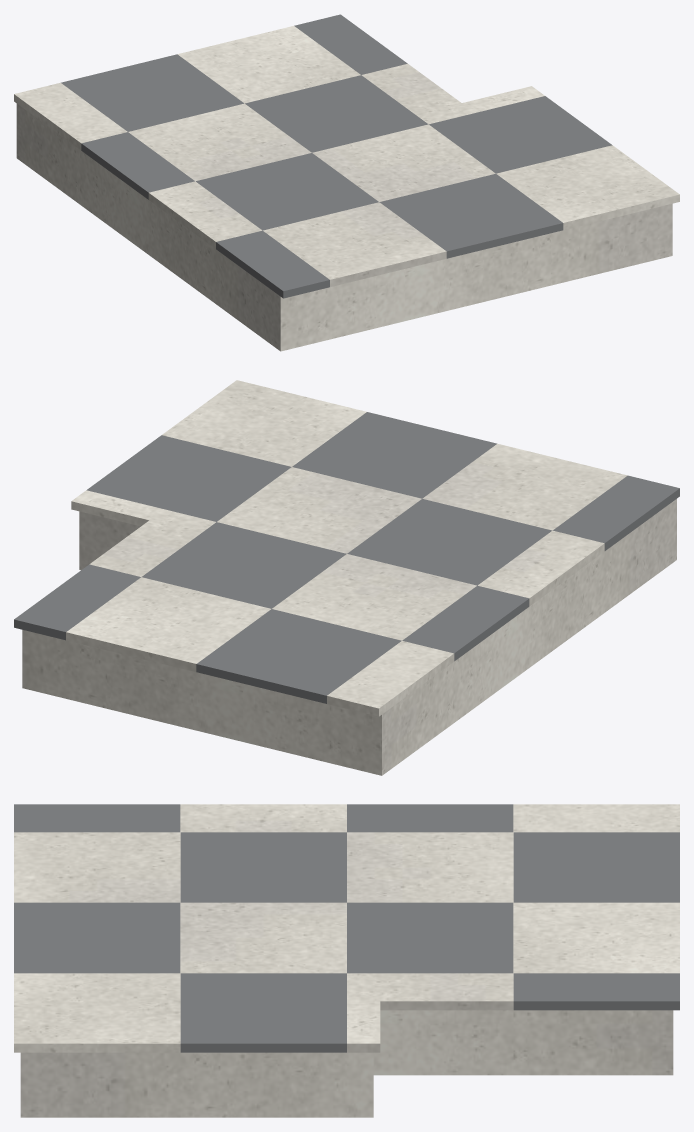
File: floor_marble_u_e1000_h6.glb
The picture shows the model from 3 angles, top to bottom: view 1: azimuth 30°, elevation 25°; view 2: azimuth 150°, elevation 25°; view 3: azimuth 270°, elevation 25°; orthographic projection. The views are drawn at different scales.
Parts seen in each view (by area): view 1: floor_marble_u_e1000_h6_marble, floor_marble_u_e1000_h6_slate, floor_marble_u_e1000_h6_plaster; view 2: floor_marble_u_e1000_h6_marble, floor_marble_u_e1000_h6_slate, floor_marble_u_e1000_h6_plaster; view 3: floor_marble_u_e1000_h6_marble, floor_marble_u_e1000_h6_slate, floor_marble_u_e1000_h6_plaster.
Boxes of the visible parts, <box> form: floor_marble_u_e1000_h6_marble: <box>14,26,679,286</box>; floor_marble_u_e1000_h6_slate: <box>61,14,612,298</box>; floor_marble_u_e1000_h6_plaster: <box>16,104,672,351</box>; floor_marble_u_e1000_h6_marble: <box>66,380,627,716</box>; floor_marble_u_e1000_h6_slate: <box>14,412,679,703</box>; floor_marble_u_e1000_h6_plaster: <box>22,499,676,775</box>; floor_marble_u_e1000_h6_marble: <box>14,804,679,1052</box>; floor_marble_u_e1000_h6_slate: <box>14,804,679,1052</box>; floor_marble_u_e1000_h6_plaster: <box>20,1010,673,1117</box>.
Bounding box in the file's own units: 1.7 × 0.255 × 2.
3 materials, 2 textured.
